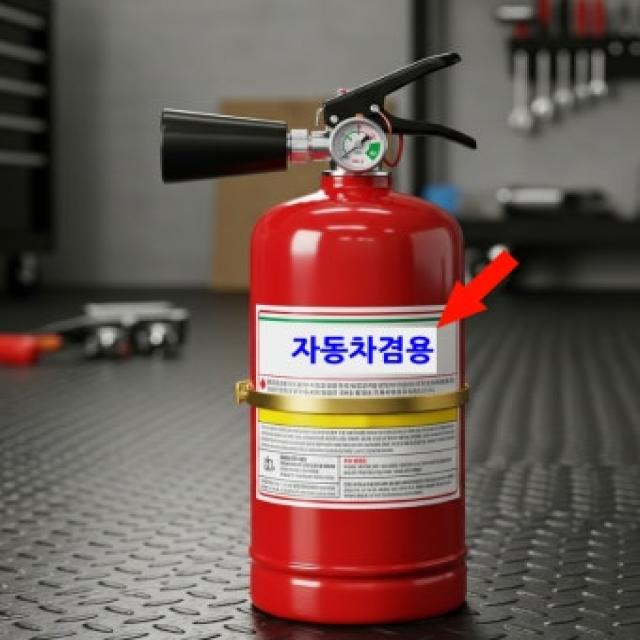pressure gauge: (330, 118, 387, 171)
